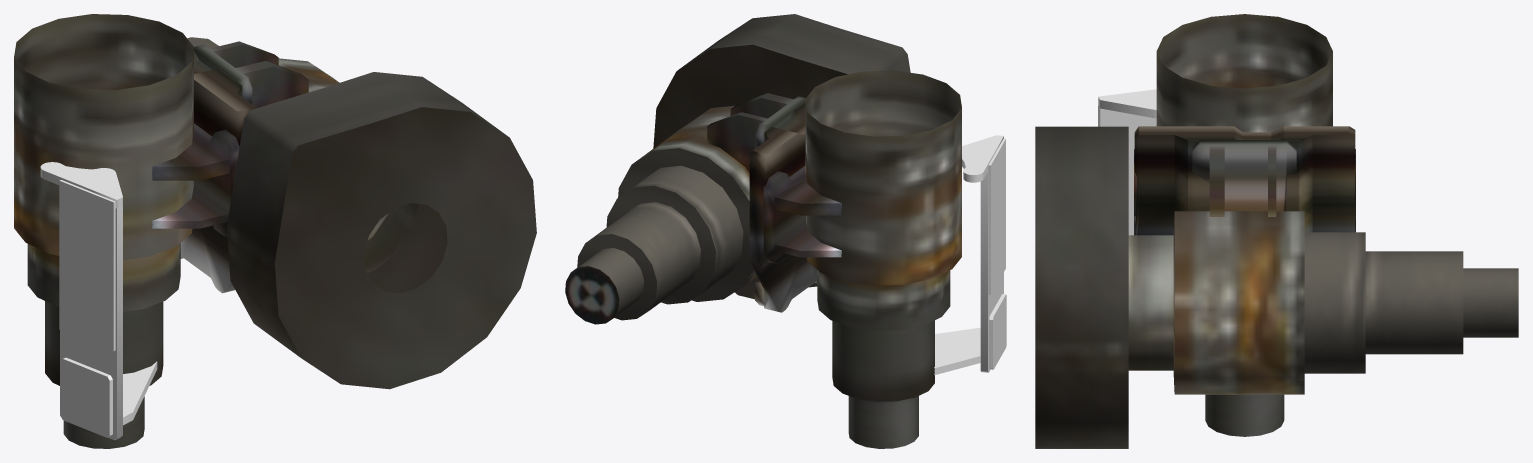
Rendered from arm_shoulder_link.dae.
3 renders of one model, left to right at view 1: azimuth 30°, elevation 25°; view 2: azimuth 150°, elevation 25°; view 3: azimuth 270°, elevation 25°, orthographic. The views are drawn at different scales.
Parts seen in each view (by area): view 1: arm_shoulder_link; view 2: arm_shoulder_link; view 3: arm_shoulder_link.
Part boxes in pixels (<box>): arm_shoulder_link: <box>14,14,536,448</box>; arm_shoulder_link: <box>565,14,1006,448</box>; arm_shoulder_link: <box>1035,14,1518,448</box>.
Size of the model in its own units: 0.3417 by 0.3569 by 0.3005.
3 materials, 2 textured.
